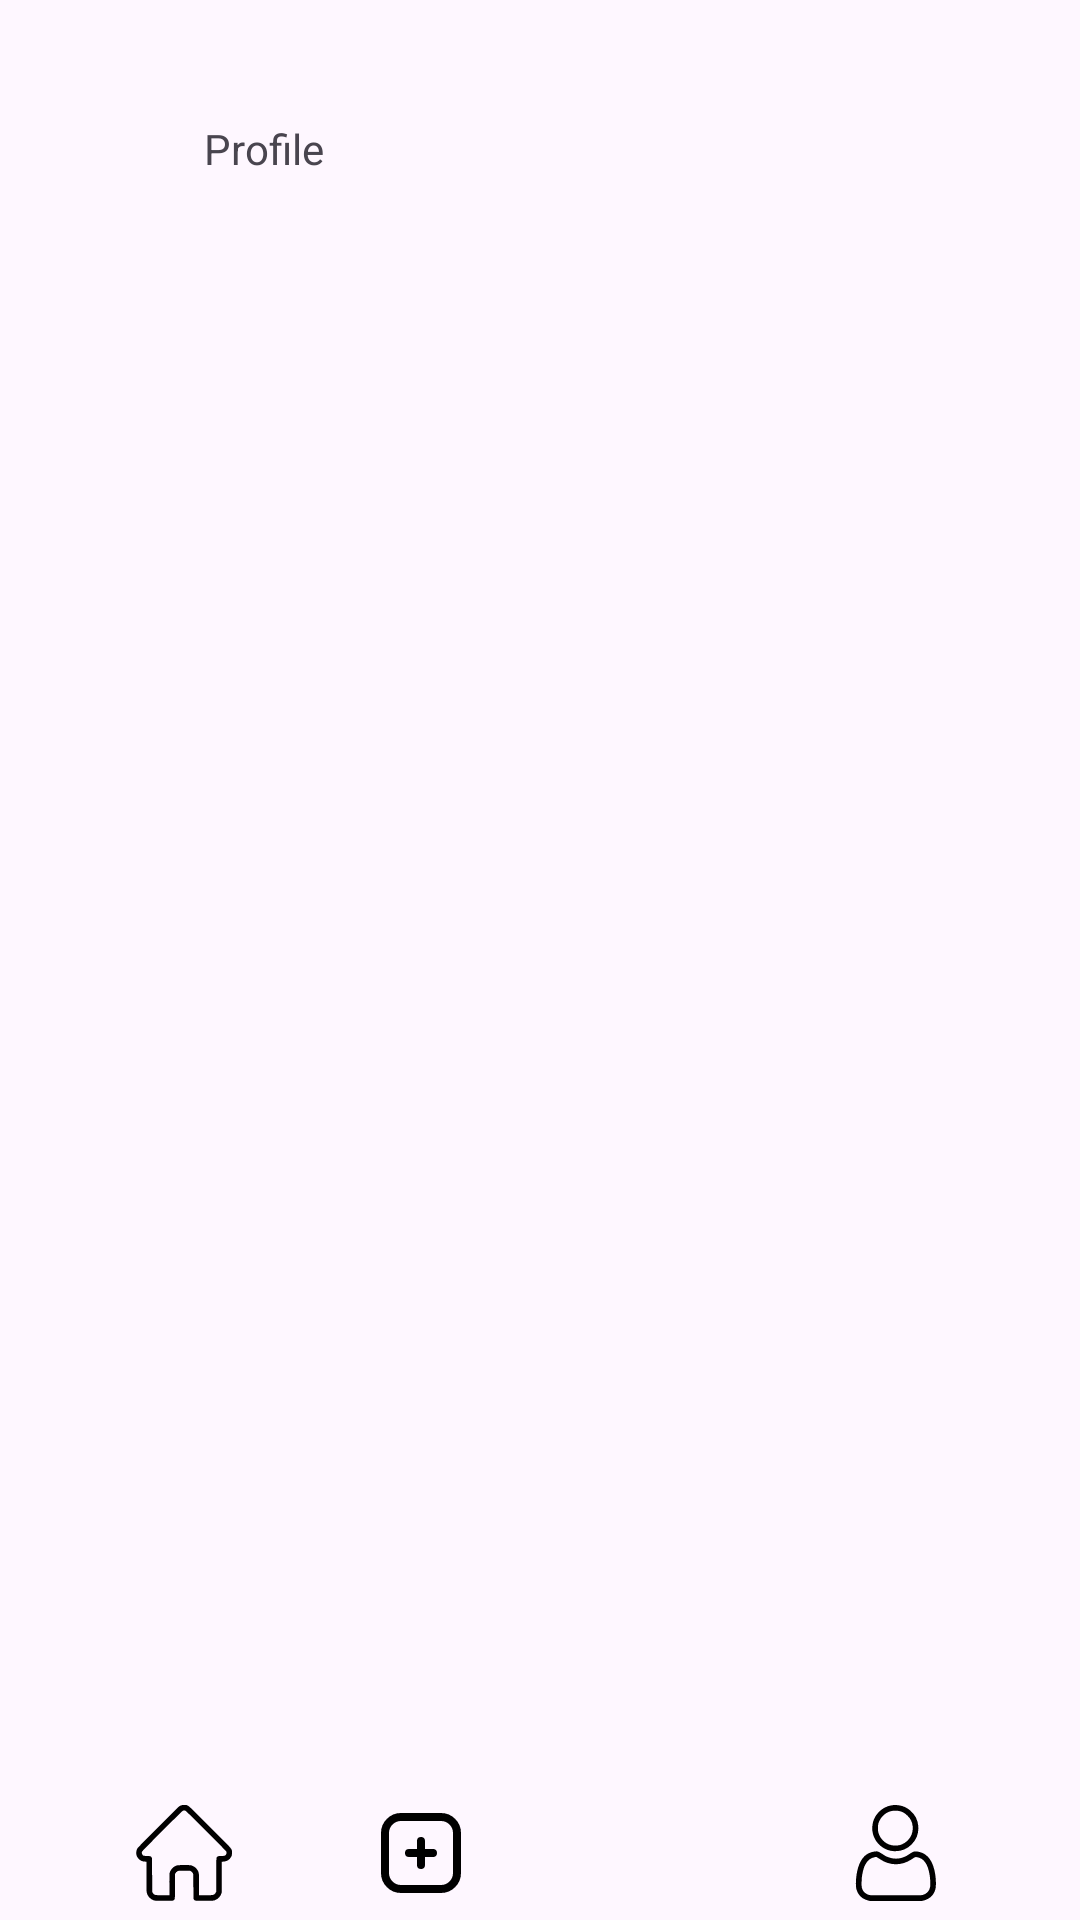

Where icons sit on this 1080px×1920px app screen, as (x1, y1, x2, y2):
add post: (381, 1813, 461, 1893)
home: (136, 1805, 232, 1901)
profile: (855, 1805, 936, 1901)
